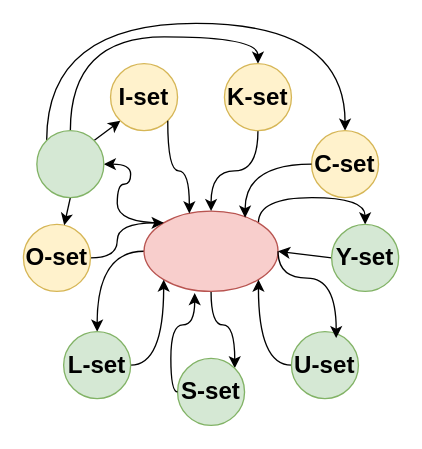
The diagram is 422 pixels wide and 449 high, and some of its shapes have lost their labels. Each missing label, with the box of its shape:
D-set: (36, 129, 104, 198)
N-set: (143, 210, 278, 291)
